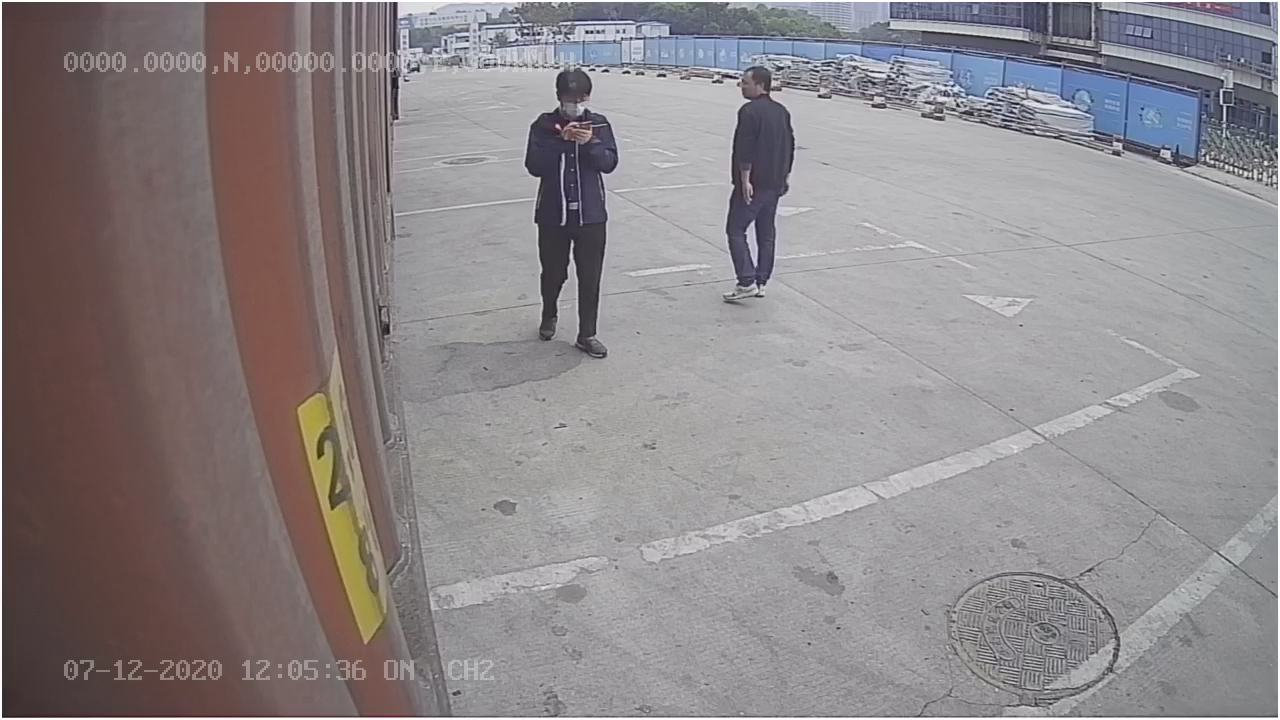person: (521, 69, 628, 357), (716, 62, 797, 305)
